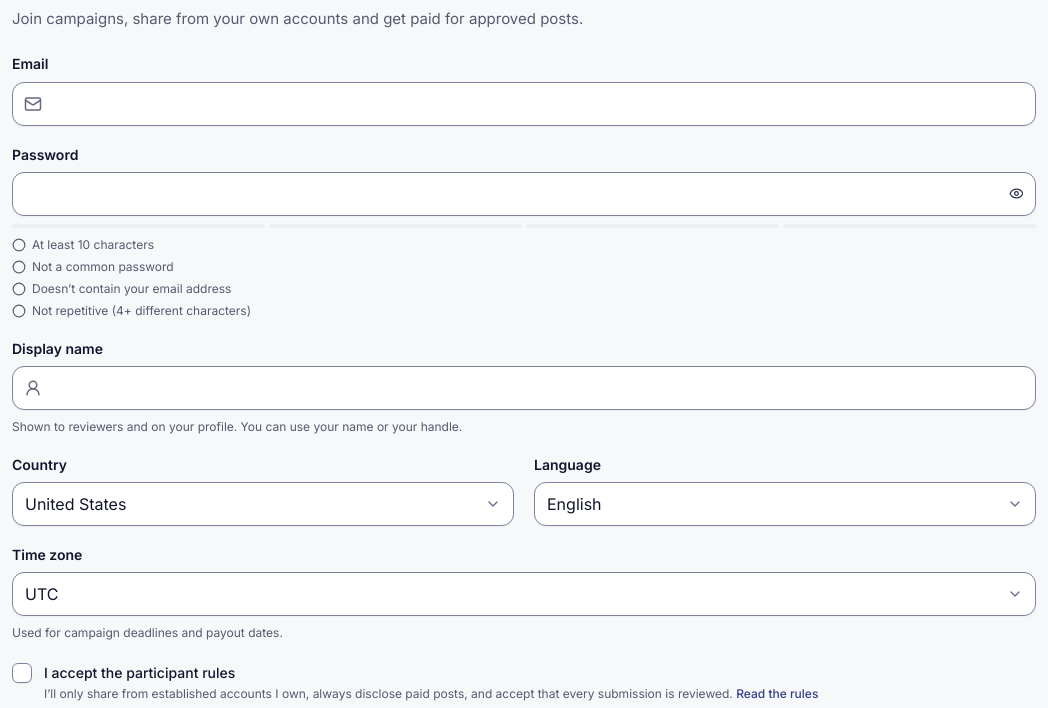
Test: RegisterPage › validates on submit, focuses the first invalid field and shows password policy
Type "not-an-email" into the field labelled "Email" at [524, 104], box top-left (12, 82), bottom-right (1036, 126)
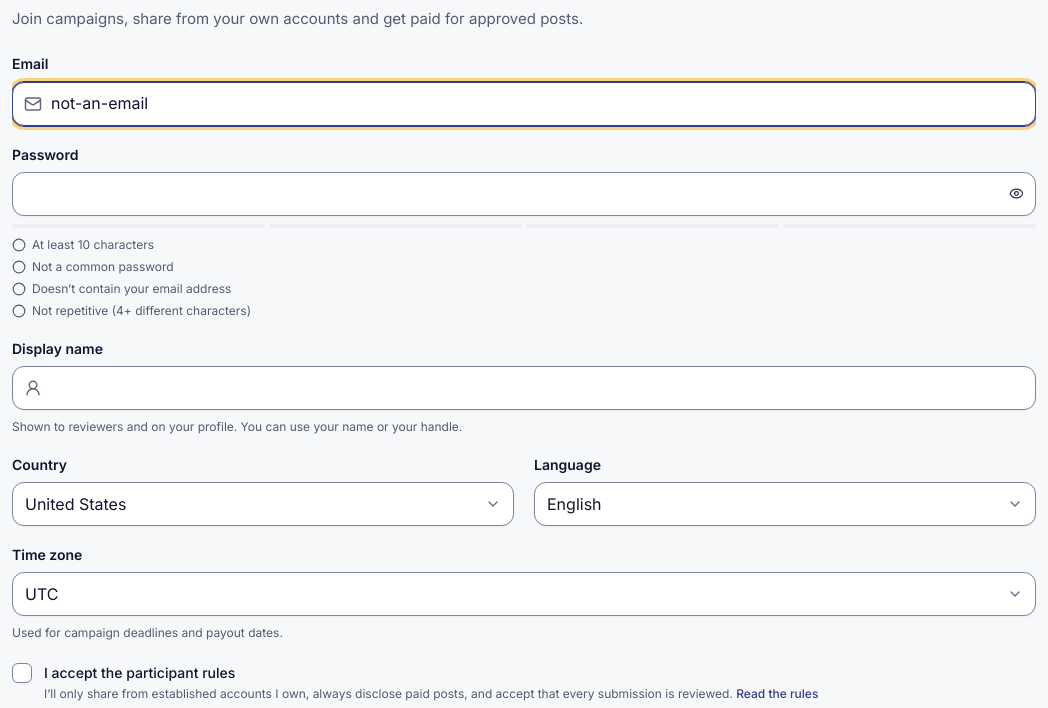
Type "password123" into the password field labelled "Password" at [524, 194], box top-left (12, 172), bottom-right (1036, 216)
(page scrolled)
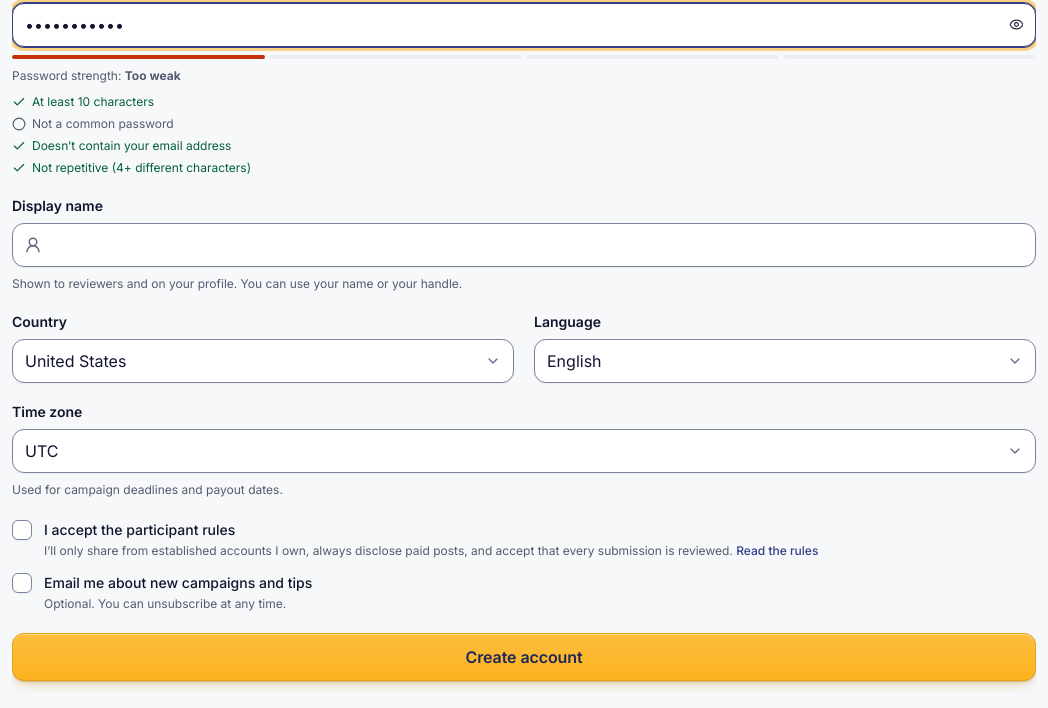
Click the button "Create account" at [524, 657], box top-left (12, 633), bottom-right (1036, 681)
(page scrolled)
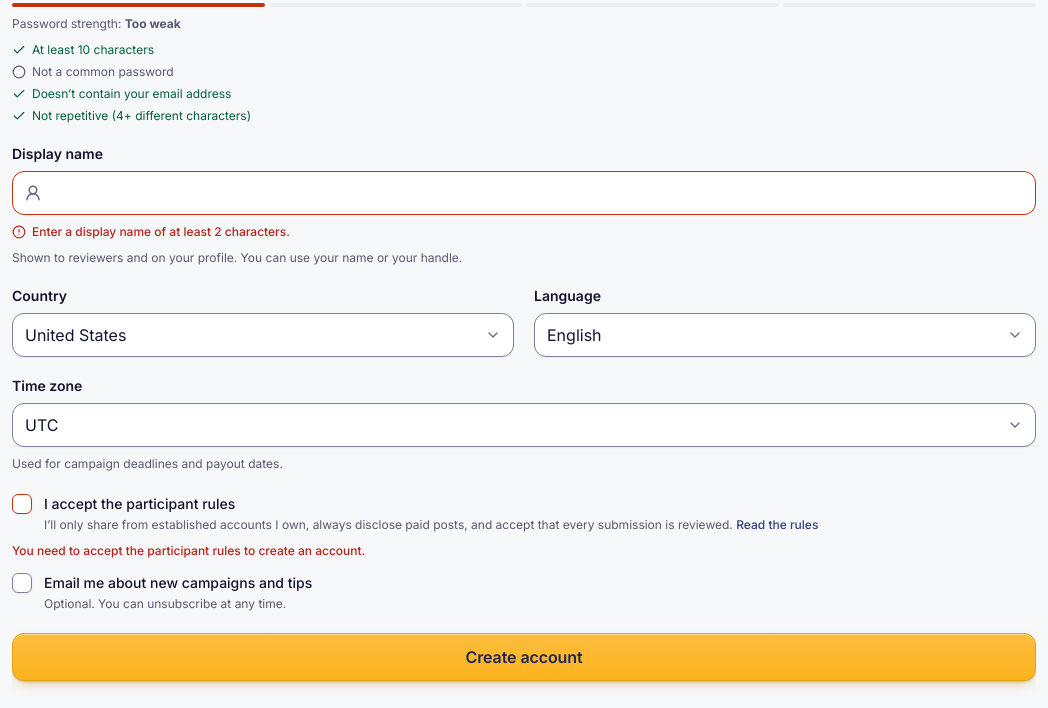
expect the text "need to accept the participant rules" is shown: met, box top-left (12, 543), bottom-right (365, 558)
